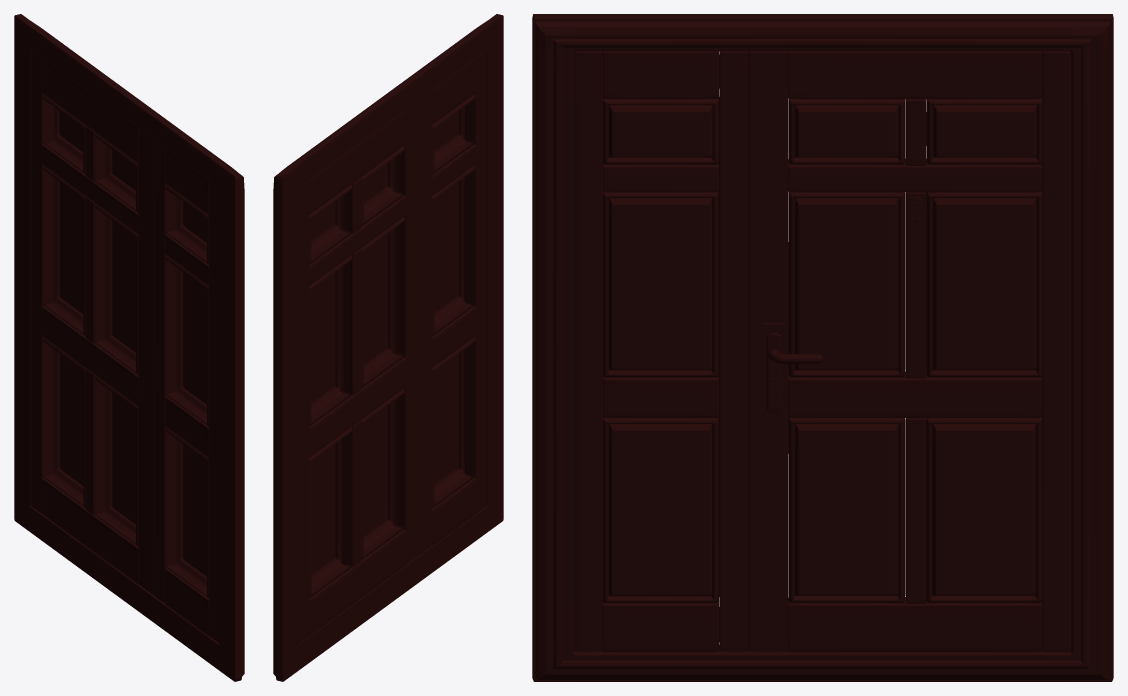
File: Porta.fbx
The picture shows the model from 3 angles, left to right: view 1: azimuth 30°, elevation 25°; view 2: azimuth 150°, elevation 25°; view 3: azimuth 270°, elevation 25°; orthographic projection. The views are drawn at different scales.
Visible parts, largest first — view 1: polySurface78, pCube14, polySurface80, pCube15, pCube23, pCube24, pCube5, pCube13, polySurface14, polySurface51, polySurface18, polySurface16 (+29 smaller); view 2: polySurface78, pCube24, polySurface80, pCube15, pCube14, pCube23, pCube5, pCube13, polySurface10, polySurface14, polySurface51, polySurface18 (+29 smaller); view 3: polySurface78, polySurface88, pCube15, pCube14, pCube24, pCube23, polySurface10, polySurface51, polySurface18, polySurface16, polySurface14, polySurface12 (+35 smaller).
Boxes of the visible parts, x1=… form: polySurface78: x1=15, y1=17, x2=244, y2=678; pCube14: x1=31, y1=50, x2=53, y2=513; polySurface80: x1=14, y1=14, x2=241, y2=681; pCube15: x1=138, y1=129, x2=153, y2=594; pCube23: x1=153, y1=140, x2=173, y2=602; pCube24: x1=209, y1=180, x2=219, y2=642; pCube5: x1=42, y1=478, x2=138, y2=584; pCube13: x1=42, y1=58, x2=138, y2=163; polySurface14: x1=57, y1=352, x2=83, y2=488; polySurface51: x1=180, y1=270, x2=206, y2=407; polySurface18: x1=180, y1=442, x2=206, y2=579; polySurface16: x1=109, y1=390, x2=135, y2=526; polySurface78: x1=273, y1=17, x2=502, y2=678; pCube24: x1=464, y1=50, x2=487, y2=512; polySurface80: x1=276, y1=14, x2=503, y2=681; pCube15: x1=404, y1=98, x2=420, y2=564; pCube14: x1=298, y1=180, x2=309, y2=643; pCube23: x1=421, y1=90, x2=431, y2=553; pCube5: x1=309, y1=529, x2=405, y2=635; pCube13: x1=309, y1=109, x2=405, y2=214; polySurface10: x1=311, y1=270, x2=337, y2=406; polySurface14: x1=311, y1=442, x2=337, y2=578; polySurface51: x1=434, y1=180, x2=460, y2=316; polySurface18: x1=434, y1=352, x2=460, y2=488; polySurface78: x1=535, y1=21, x2=1110, y2=679; polySurface88: x1=553, y1=39, x2=1090, y2=669; pCube15: x1=748, y1=51, x2=788, y2=651; pCube14: x1=1042, y1=51, x2=1071, y2=651; pCube24: x1=574, y1=51, x2=603, y2=651; pCube23: x1=719, y1=51, x2=747, y2=651; polySurface10: x1=935, y1=202, x2=1033, y2=369; polySurface51: x1=611, y1=202, x2=709, y2=369; polySurface18: x1=611, y1=428, x2=709, y2=595; polySurface16: x1=797, y1=428, x2=895, y2=595; polySurface14: x1=935, y1=428, x2=1033, y2=595; polySurface12: x1=797, y1=202, x2=895, y2=369.
Size of the model in its own units: 2.09 by 35.03 by 27.79.
